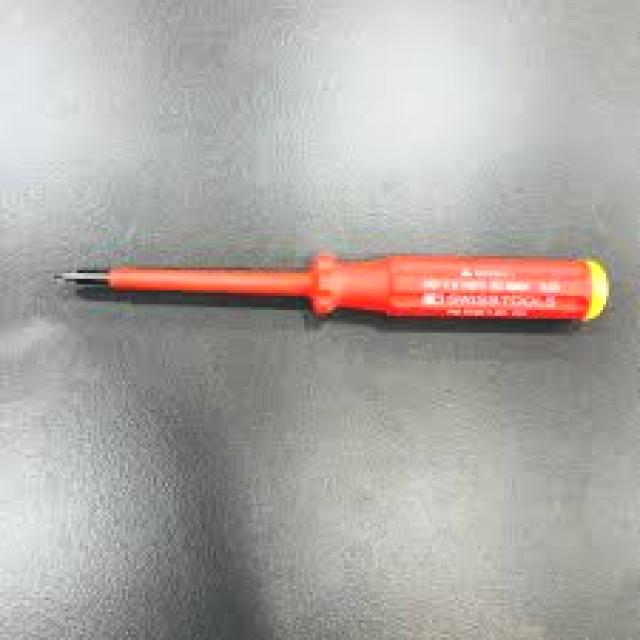screwdriver: (48, 246, 614, 331)
